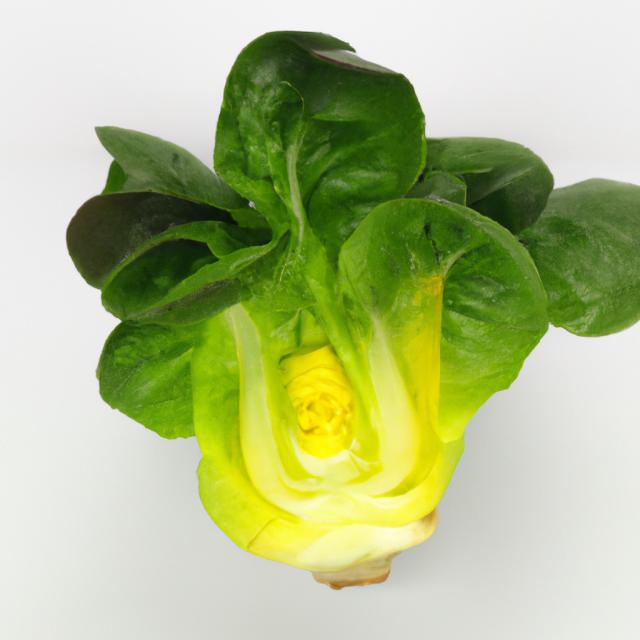-N: (51, 22, 640, 596)
